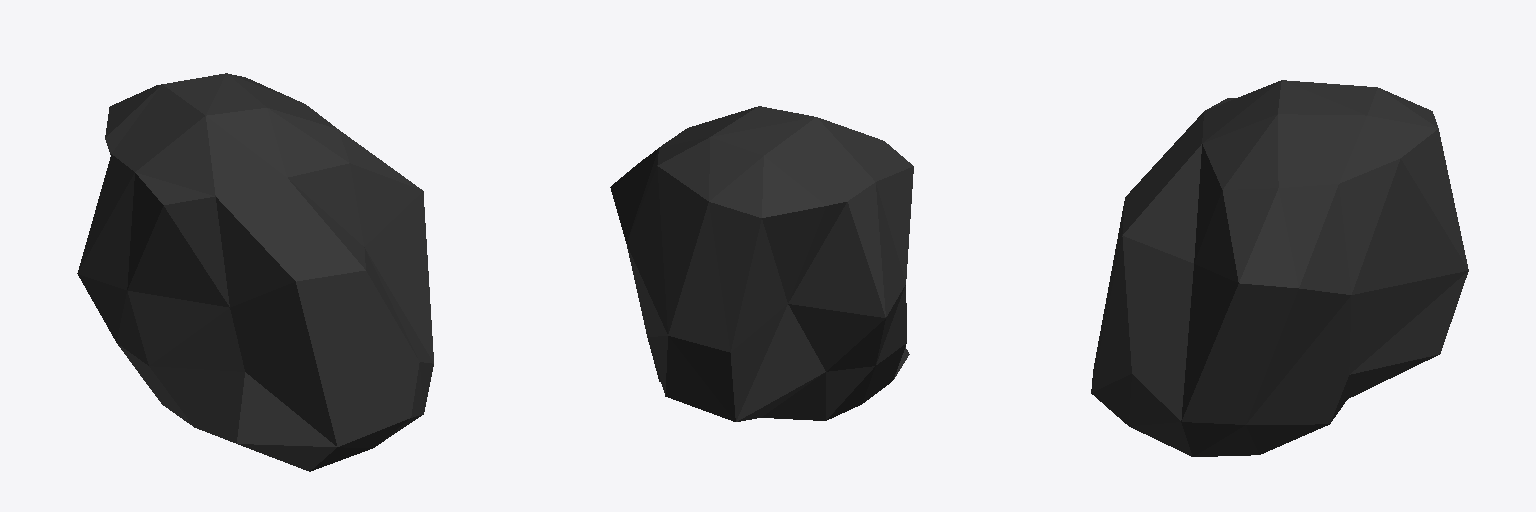
The model's file is rock6.obj.
3 renders of one model, left to right at view 1: azimuth 30°, elevation 25°; view 2: azimuth 150°, elevation 25°; view 3: azimuth 270°, elevation 25°, orthographic.
Parts seen in each view (by area): view 1: Rock_6_Cube.013; view 2: Rock_6_Cube.013; view 3: Rock_6_Cube.013.
Part boxes in pixels (x1,y1,x2,y2): Rock_6_Cube.013: (77,73,433,471); Rock_6_Cube.013: (610,106,913,421); Rock_6_Cube.013: (1091,80,1468,456).
Bounding box in the file's own units: 3.61 × 3.53 × 3.98.